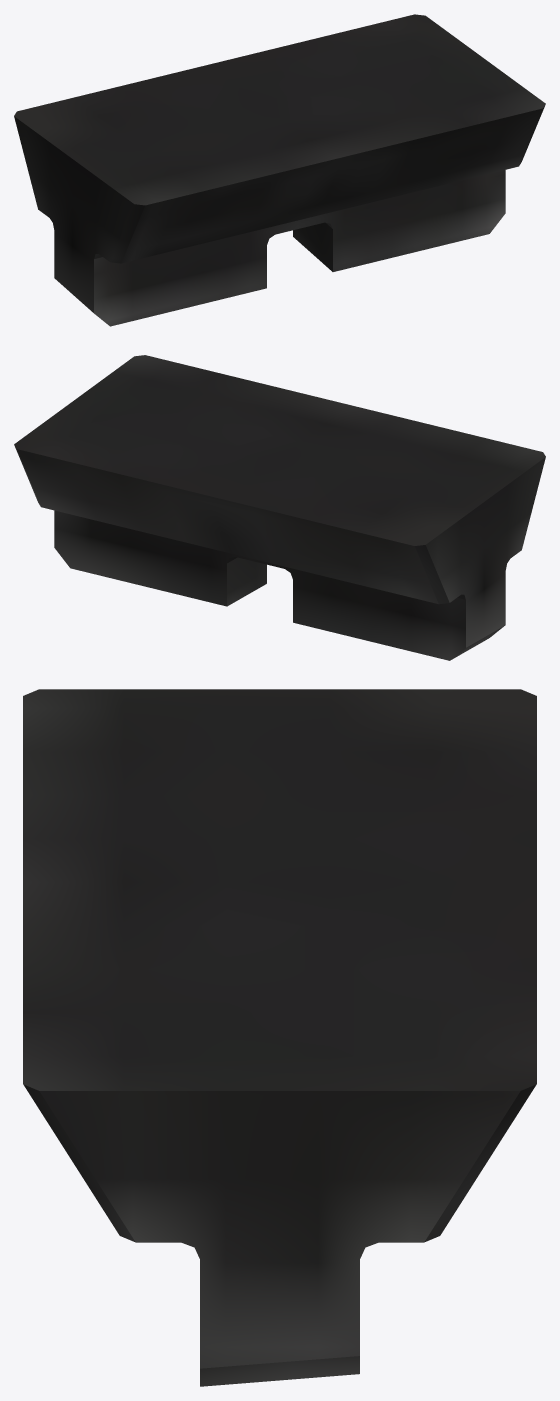
3 renders of one model, top to bottom at view 1: azimuth 30°, elevation 25°; view 2: azimuth 150°, elevation 25°; view 3: azimuth 270°, elevation 25°, orthographic. The views are drawn at different scales.
Parts seen in each view (by area): view 1: TW_63c6adcfb4ba094317063742_PZ_Import; view 2: TW_63c6adcfb4ba094317063742_PZ_Import; view 3: TW_63c6adcfb4ba094317063742_PZ_Import.
Boxes of the visible parts, x1,y1,x2,y2 form: TW_63c6adcfb4ba094317063742_PZ_Import: (14,14,545,326); TW_63c6adcfb4ba094317063742_PZ_Import: (14,355,545,660); TW_63c6adcfb4ba094317063742_PZ_Import: (23,689,536,1386).
Size of the model in its own units: 0.00722 by 0.0039 by 0.00261.
Materials: 1 (1 with a texture image).
